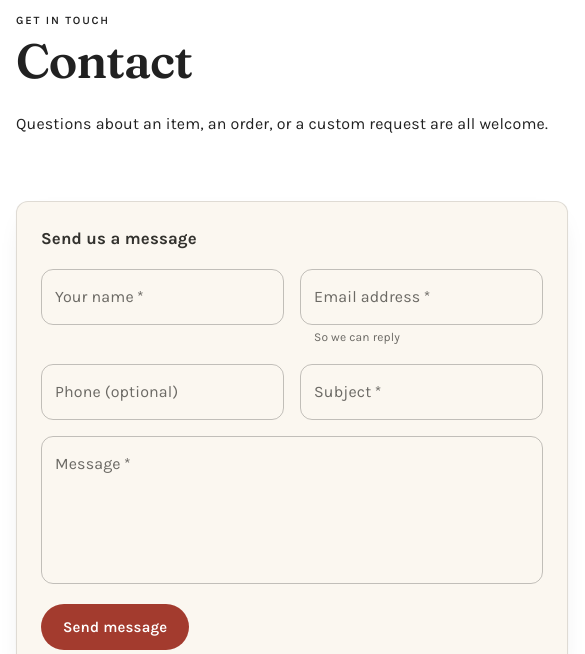
Test case: Contact form › sends what was typed and confirms it
Type "Asha Menon" into the field labelled "Your name *" at {"x": 162, "y": 297}, box [41, 269, 284, 325]
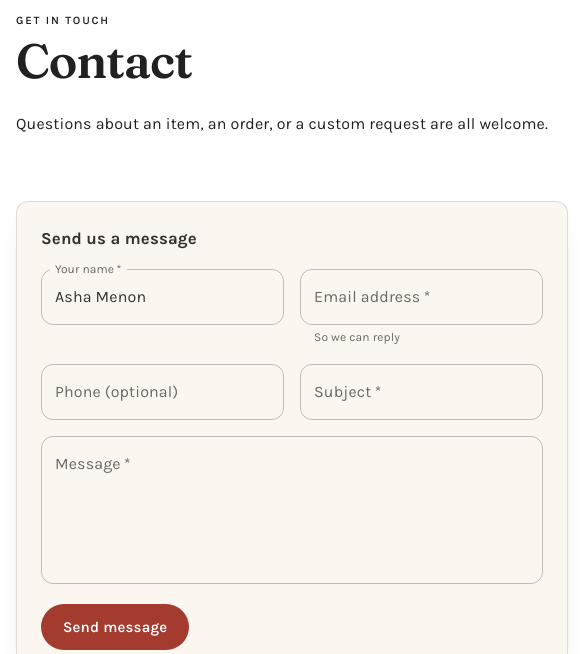
Type "asha@example.com" into the field labelled "Email address *" at {"x": 422, "y": 297}, box [300, 269, 543, 325]
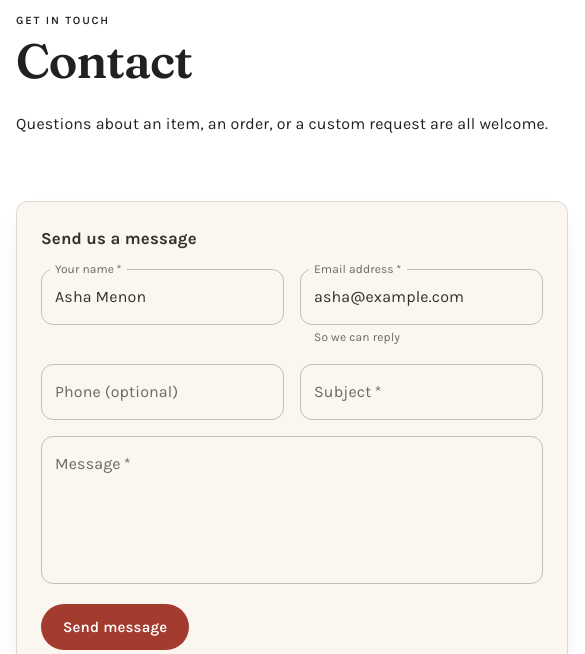
Type "A question" into the field labelled "Subject *" at {"x": 422, "y": 392}, box [300, 364, 543, 420]
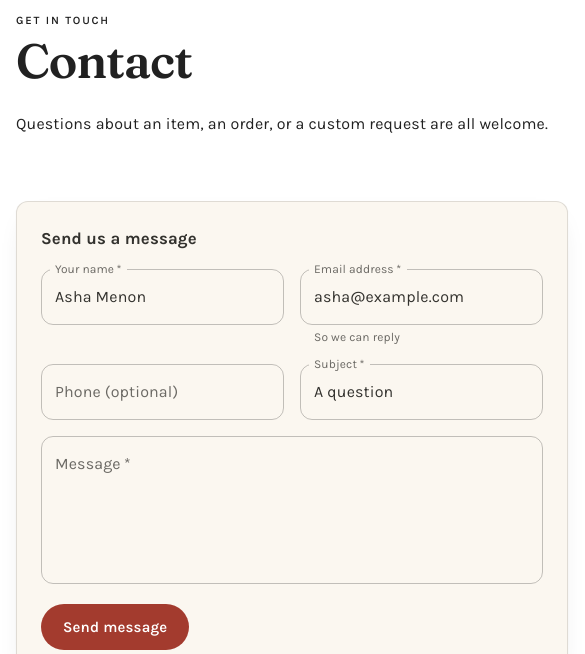
Type "Do you ship to Kochi?" into the text box labelled "Message *" at {"x": 292, "y": 510}, box [55, 452, 529, 567]
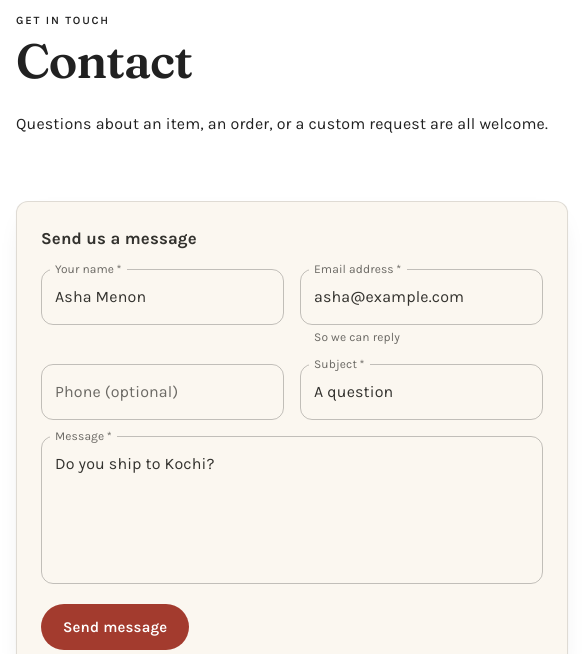
Click the button "Send message" at {"x": 115, "y": 627}, box [41, 604, 189, 650]
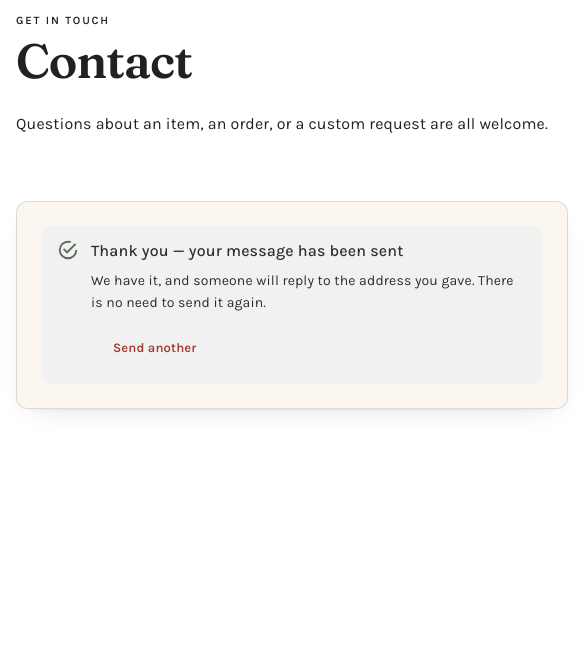
Check: the text "Thank you — your message has been sent" is shown, box [91, 241, 404, 260]
